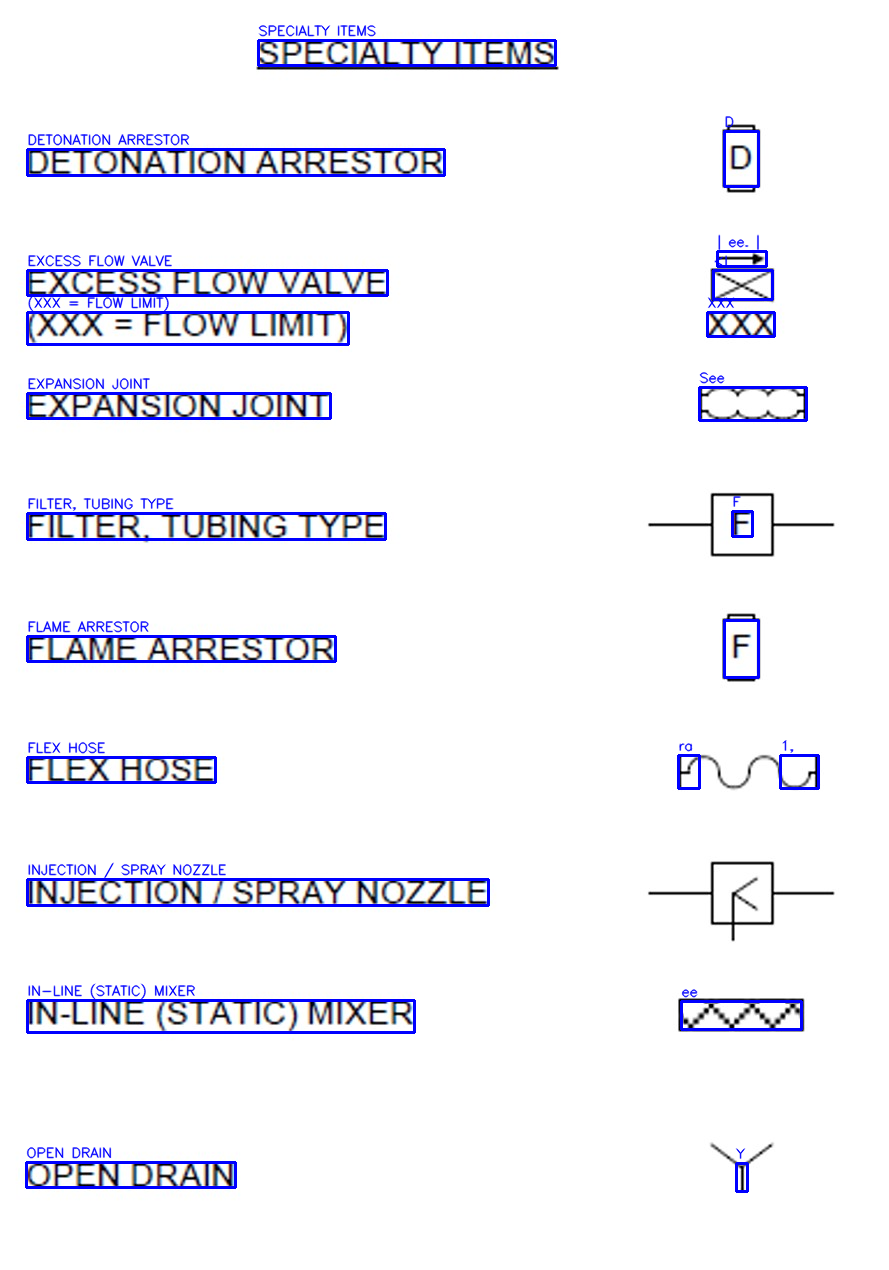Outro: (698, 250, 785, 349), (670, 746, 831, 796), (671, 985, 809, 1038), (687, 380, 810, 427), (704, 854, 780, 929), (704, 489, 779, 560), (704, 1131, 780, 1194), (717, 115, 764, 194), (717, 608, 764, 687)
